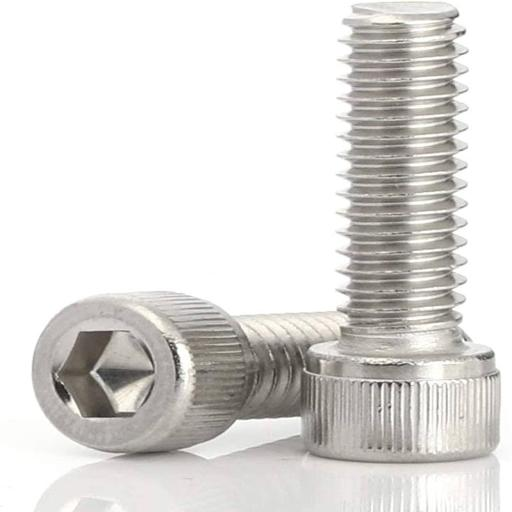Hex-Allen: (31, 292, 239, 456)
